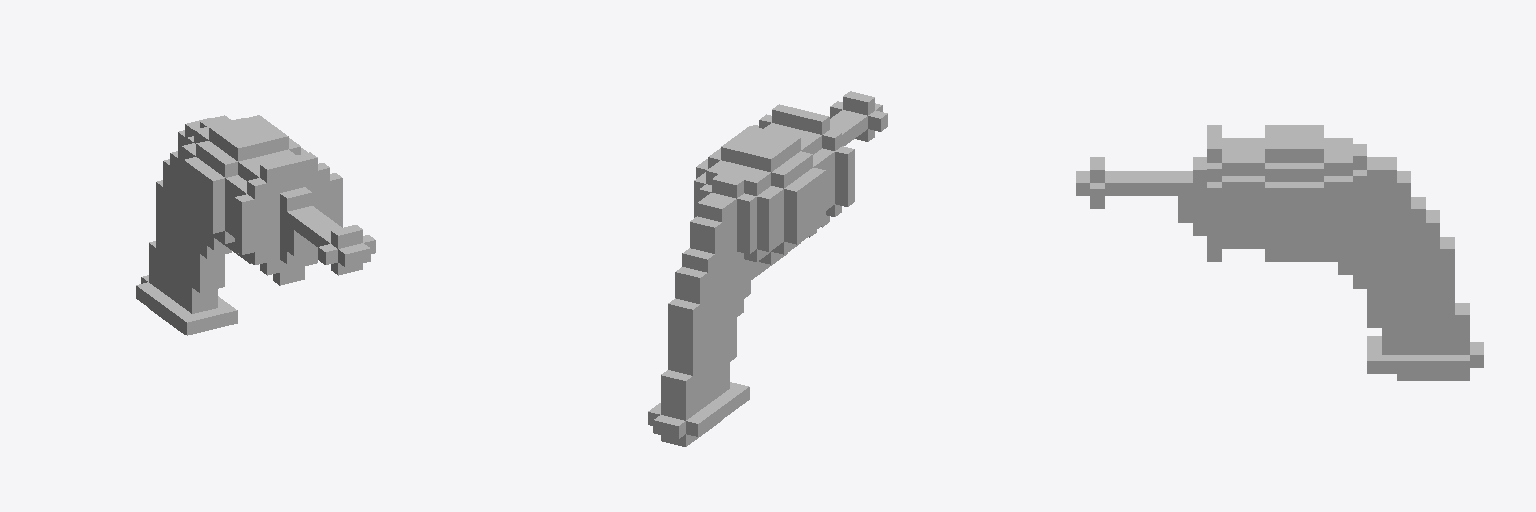
File: alien Love.obj
3 renders of one model, left to right at view 1: azimuth 30°, elevation 25°; view 2: azimuth 150°, elevation 25°; view 3: azimuth 270°, elevation 25°, orthographic.
Parts seen in each view (by area): view 1: alien Love; view 2: alien Love; view 3: alien Love.
Part boxes in pixels (x1,y1,x2,y2): alien Love: (136, 115, 375, 335); alien Love: (648, 91, 887, 446); alien Love: (1076, 125, 1483, 380).
Bounding box in the file's own units: 8 × 18 × 28.